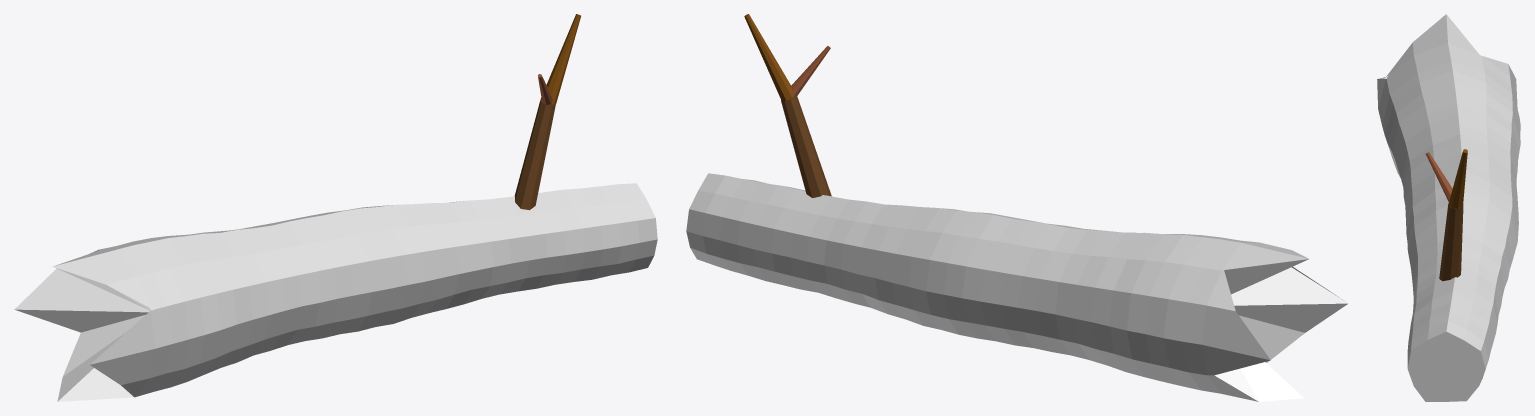
The model's file is TroncoConRama.glb.
3 views of the same model, side by side, from view 1: azimuth 30°, elevation 25°; view 2: azimuth 150°, elevation 25°; view 3: azimuth 270°, elevation 25° (orthographic). The views are drawn at different scales.
Visible parts, largest first — view 1: Wooden_Log, Branch_Base, Twig1; view 2: Wooden_Log, Branch_Base, Twig1; view 3: Wooden_Log, Branch_Base, Twig1, Twig2.
Part boxes in pixels (bbox=[...]): Wooden_Log: bbox=[14, 183, 657, 401]; Branch_Base: bbox=[514, 100, 555, 210]; Twig1: bbox=[540, 14, 580, 104]; Wooden_Log: bbox=[686, 173, 1348, 401]; Branch_Base: bbox=[781, 96, 831, 197]; Twig1: bbox=[744, 14, 794, 101]; Wooden_Log: bbox=[1377, 14, 1520, 401]; Branch_Base: bbox=[1439, 203, 1463, 281]; Twig1: bbox=[1448, 149, 1467, 209]; Twig2: bbox=[1426, 152, 1452, 201].
Size of the model in its own units: 1.08 by 0.4447 by 0.2488.
